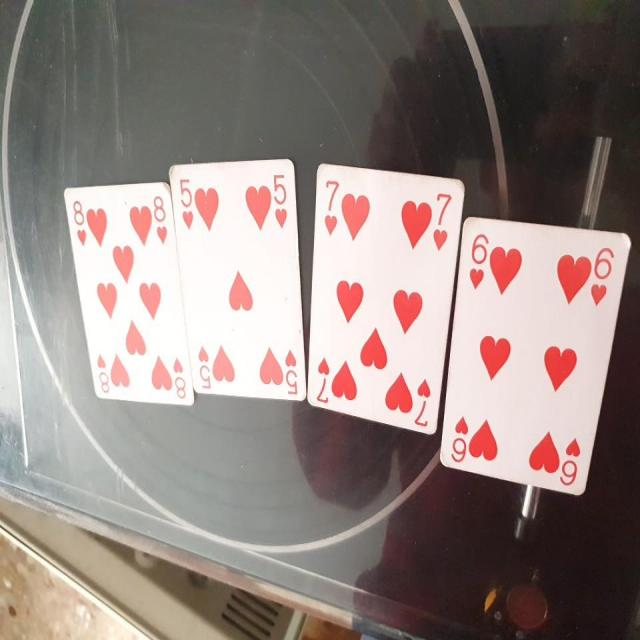5 Hearts: (164, 154, 309, 405)
6 Hearts: (438, 213, 635, 504)
7 Hearts: (303, 161, 465, 436)
8 Hearts: (55, 181, 202, 418)
